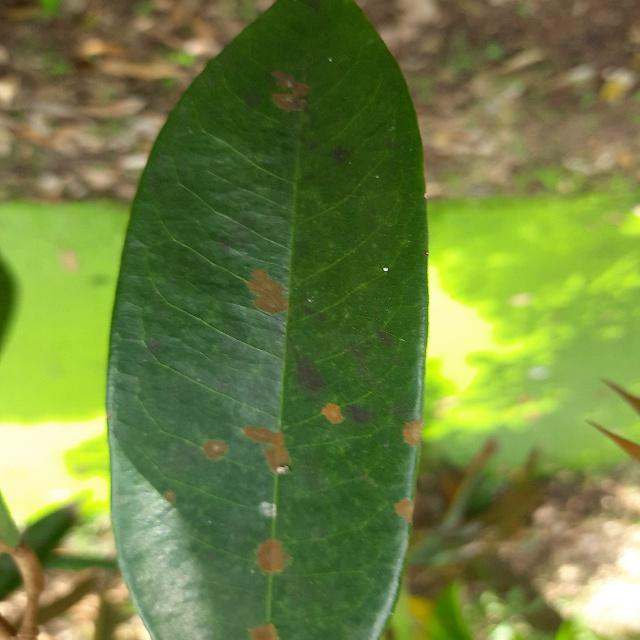Algal Leaf Spot: (95, 0, 438, 640)
